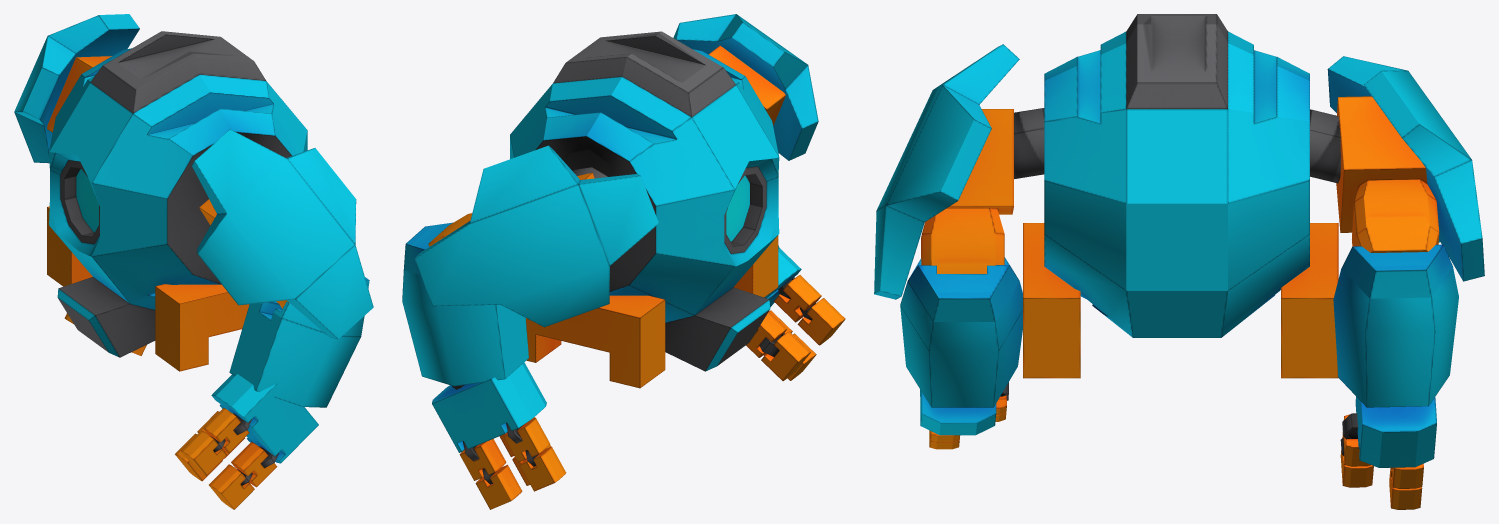
The model's file is Body_Idle22.obj.
The picture shows the model from 3 angles, left to right: view 1: azimuth 30°, elevation 25°; view 2: azimuth 150°, elevation 25°; view 3: azimuth 270°, elevation 25°; orthographic projection. The views are drawn at different scales.
Parts seen in each view (by area): view 1: Plane001, Object006, Object008, Object007, Object002; view 2: Plane001, Object002, Object004, Object003, Object006, Object008; view 3: Plane001, Object002, Object006, Object003, Object007, Object004, Object008, Object001, Object005.
Boxes of the visible parts, left/top/right/bottom form: Plane001: left=47, top=31, right=307, bottom=371; Object006: left=191, top=129, right=373, bottom=339; Object008: left=175, top=374, right=318, bottom=509; Object007: left=229, top=277, right=369, bottom=407; Object002: left=14, top=14, right=139, bottom=163; Plane001: left=510, top=31, right=779, bottom=388; Object002: left=414, top=145, right=658, bottom=327; Object004: left=432, top=362, right=566, bottom=509; Object003: left=402, top=222, right=528, bottom=386; Object006: left=673, top=14, right=818, bottom=160; Object008: left=746, top=248, right=845, bottom=380; Plane001: left=1023, top=14, right=1338, bottom=378; Object002: left=1327, top=56, right=1484, bottom=281; Object006: left=874, top=44, right=1019, bottom=299; Object003: left=1333, top=244, right=1458, bottom=407; Object007: left=900, top=257, right=1022, bottom=407; Object004: left=1340, top=396, right=1436, bottom=509; Object008: left=920, top=382, right=1008, bottom=449; Object001: left=1310, top=109, right=1340, bottom=183; Object005: left=1014, top=108, right=1044, bottom=178.
Size of the model in its own units: 96.83 by 151 by 182.
